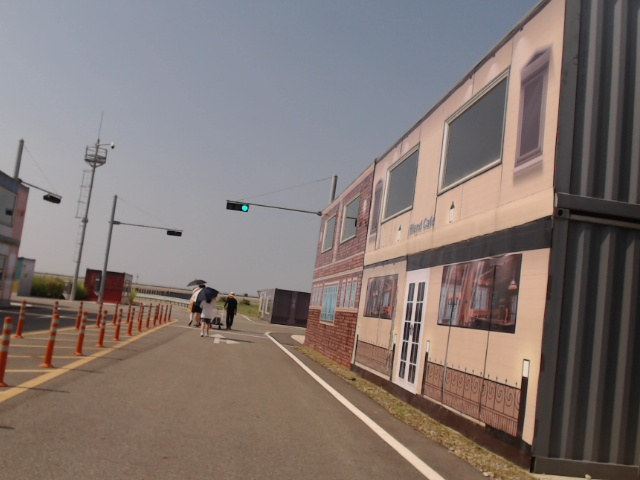green_3: (226, 202, 249, 212)
